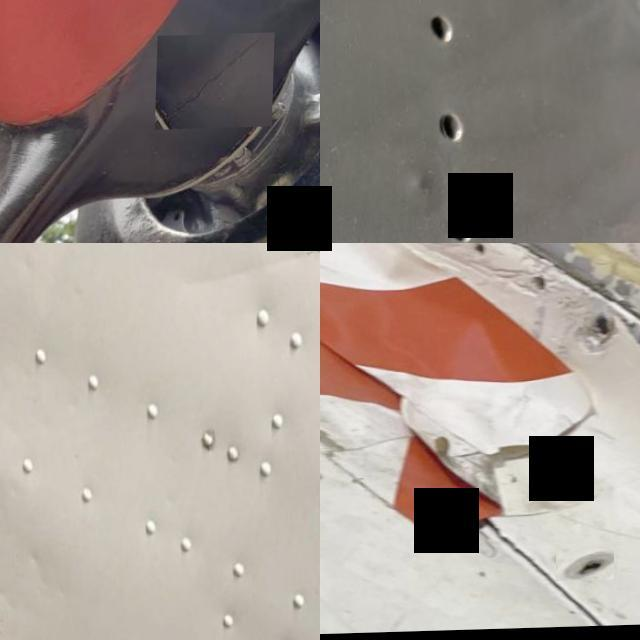Crack: (157, 34, 276, 131), (606, 307, 640, 434)
Dent: (180, 243, 313, 287), (27, 545, 47, 570)
Missing_Fastener: (559, 550, 618, 584)
